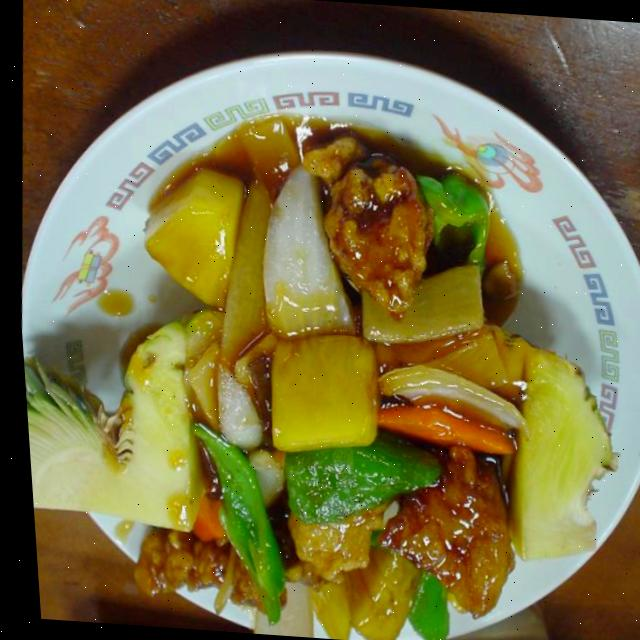猪肉菜式: (5, 94, 640, 640)
